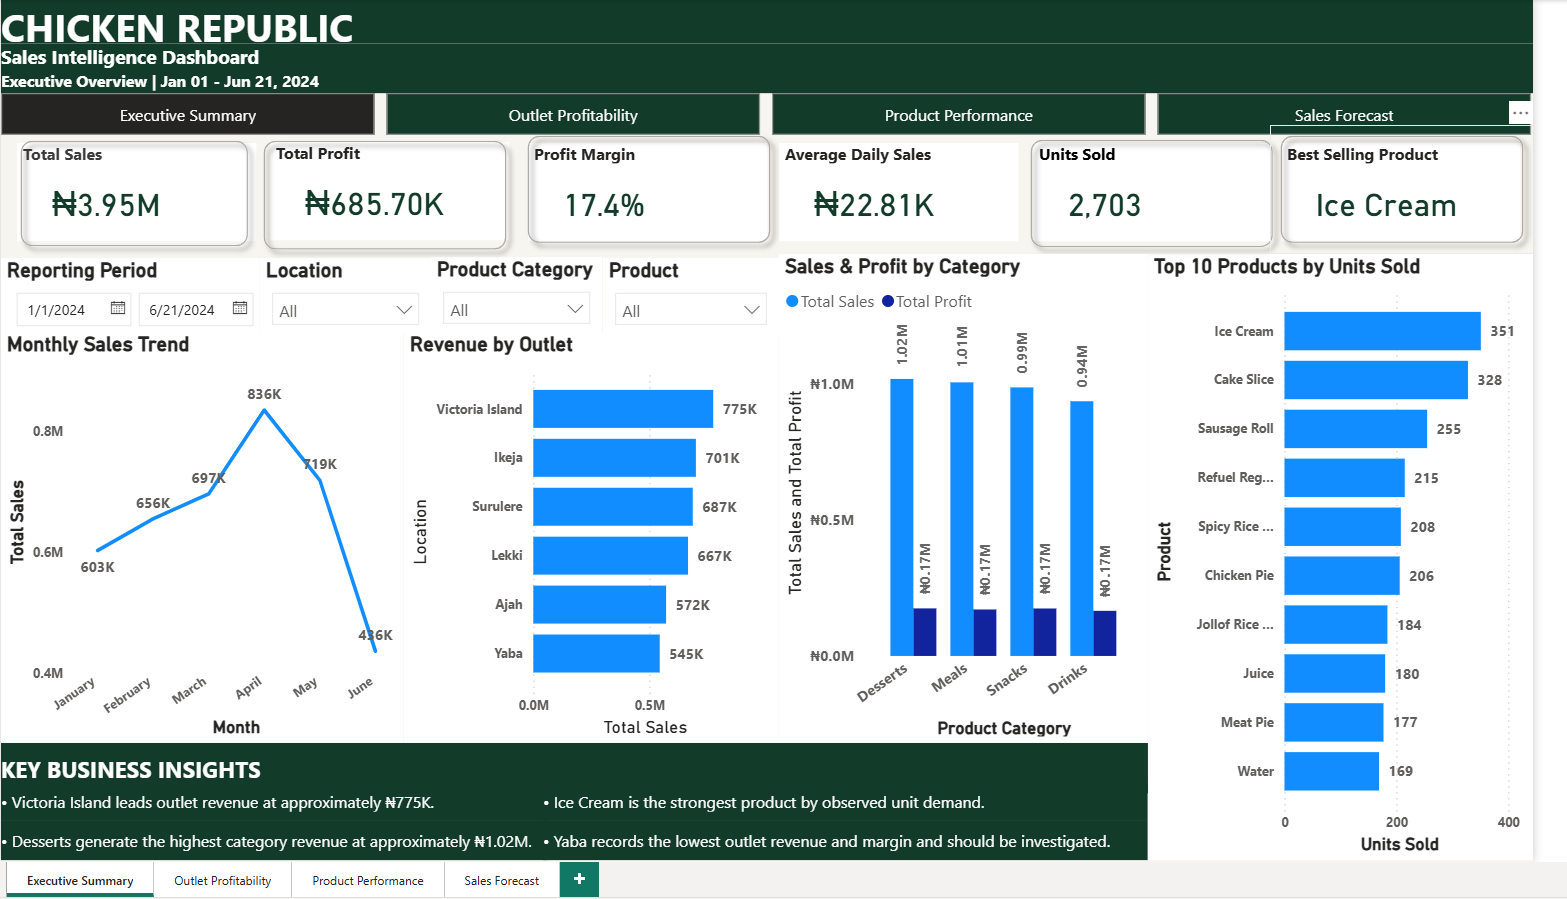

What the dashboard file says about the page in this screenshot:
{"tool":"powerbi","page":{"name":"Executive Summary","canvas":[1280,720],"ordinal":0},"visuals":[{"type":"cardVisual","title":"Total Sales","fields":{"Data":["Sales.Total Sales"]},"box":[13.5,119.2,200,82],"z":0},{"type":"cardVisual","title":"Units Sold","fields":{"Data":["Sales.Units Sold Display"]},"box":[862,119.2,199.9,81.7],"z":1000},{"type":"cardVisual","title":"Total Profit","fields":{"Data":["Sales.Total Profit"]},"box":[224.9,118.2,199.9,81.7],"z":2000},{"type":"cardVisual","title":"Profit Margin","fields":{"Data":["Sales.Profit Margin"]},"box":[440.1,119.2,199.9,81.7],"z":3000},{"type":"slicer","title":"Reporting Period","fields":{"Values":["Sales.Date"]},"box":[0,215.3,216.2,62.5],"z":4000},{"type":"slicer","title":"Location","fields":{"Values":["Sales.Location"]},"box":[216.2,215.3,143.2,63.4],"z":5000},{"type":"slicer","title":"Product Category","fields":{"Values":["Sales.Product Category"]},"box":[359.4,214.3,143.2,63.4],"z":6000},{"type":"slicer","title":"Product","fields":{"Values":["Sales.Product"]},"box":[502.6,215.3,147,63.4],"z":7000},{"type":"lineChart","title":"Monthly Sales Trend","fields":{"Y":["Sales.Total Sales"],"Category":["Sales.Date.Variation.Date Hierarchy.Month"]},"box":[0,277.7,336.3,343.1],"z":8000},{"type":"clusteredBarChart","title":"Revenue by Outlet","fields":{"Category":["Sales.Location"],"Y":["Sales.Total Sales"]},"box":[336.3,277.7,313.3,343.1],"z":9000},{"type":"barChart","title":"Top 10 Products by Units Sold","fields":{"Category":["Sales.Product"],"Y":["Sales.Units Sold"]},"box":[958.1,212.4,321.9,506.4],"z":10000},{"type":"pageNavigator","box":[0,77.8,1280,35.6],"z":11000},{"type":"cardVisual","title":"Average Daily Sales","fields":{"Data":["Sales.Average Daily Sales"]},"box":[649.6,119.2,199.9,81.7],"z":12000},{"type":"cardVisual","title":"Best Selling Product","fields":{"Data":["Sales.Best Selling Product"]},"box":[1069.5,119.2,199.9,81.7],"z":13000},{"type":"shape","box":[0,0,1280,36.5],"z":14000},{"type":"shape","box":[851.4,107.6,220.1,107.6],"z":15000},{"type":"shape","box":[431.1,104.6,220.6,107.4],"z":16000},{"type":"shape","box":[7.2,108.9,207.7,106],"z":17000},{"type":"shape","box":[1060,104.6,220.6,107.4],"z":18000},{"type":"shape","box":[210.6,108.9,220.6,108.9],"z":19000},{"type":"shape","box":[672.3,305.9,219.6,109],"z":20000},{"type":"shape","box":[0,37,1280,21.4],"z":21000},{"type":"shape","box":[0,57,1280,21],"z":22000},{"type":"shape","box":[0,620.8,958.1,42.3],"z":23000},{"type":"shape","box":[0,654.4,456.5,31.7],"z":24000},{"type":"shape","box":[452.6,654.4,505.5,31.7],"z":25000},{"type":"shape","box":[0,686.1,456.5,32.7],"z":26000},{"type":"shape","box":[452.6,686.1,505.5,32.7],"z":27000},{"type":"clusteredColumnChart","title":"Sales & Profit by Category","fields":{"Category":["Sales.Product Category"],"Y":["Sales.Total Sales","Sales.Total Profit"]},"box":[649.6,212.4,308.5,408.4],"z":28000}]}

Visuals, with their boxes in screenshot pixels (x1, y1, x2, y2), scaled from the page's 1280x720 canvas onto the 1567x899 screenshot:
"Total Sales" cardVisual: x1=17, y1=149, x2=261, y2=251
"Units Sold" cardVisual: x1=1055, y1=149, x2=1300, y2=251
"Total Profit" cardVisual: x1=275, y1=148, x2=520, y2=250
"Profit Margin" cardVisual: x1=539, y1=149, x2=784, y2=251
"Reporting Period" slicer: x1=0, y1=269, x2=265, y2=347
"Location" slicer: x1=265, y1=269, x2=440, y2=348
"Product Category" slicer: x1=440, y1=268, x2=615, y2=347
"Product" slicer: x1=615, y1=269, x2=795, y2=348
"Monthly Sales Trend" lineChart: x1=0, y1=347, x2=412, y2=775
"Revenue by Outlet" clusteredBarChart: x1=412, y1=347, x2=795, y2=775
"Top 10 Products by Units Sold" barChart: x1=1173, y1=265, x2=1566, y2=898
pageNavigator: x1=0, y1=97, x2=1566, y2=142
"Average Daily Sales" cardVisual: x1=795, y1=149, x2=1040, y2=251
"Best Selling Product" cardVisual: x1=1309, y1=149, x2=1554, y2=251
shape: x1=0, y1=0, x2=1566, y2=46
shape: x1=1042, y1=134, x2=1312, y2=269
shape: x1=528, y1=131, x2=798, y2=265
shape: x1=9, y1=136, x2=263, y2=268
shape: x1=1298, y1=131, x2=1566, y2=265
shape: x1=258, y1=136, x2=528, y2=272
shape: x1=823, y1=382, x2=1092, y2=518
shape: x1=0, y1=46, x2=1566, y2=73
shape: x1=0, y1=71, x2=1566, y2=97
shape: x1=0, y1=775, x2=1173, y2=828
shape: x1=0, y1=817, x2=559, y2=857
shape: x1=554, y1=817, x2=1173, y2=857
shape: x1=0, y1=857, x2=559, y2=898
shape: x1=554, y1=857, x2=1173, y2=898
"Sales & Profit by Category" clusteredColumnChart: x1=795, y1=265, x2=1173, y2=775
